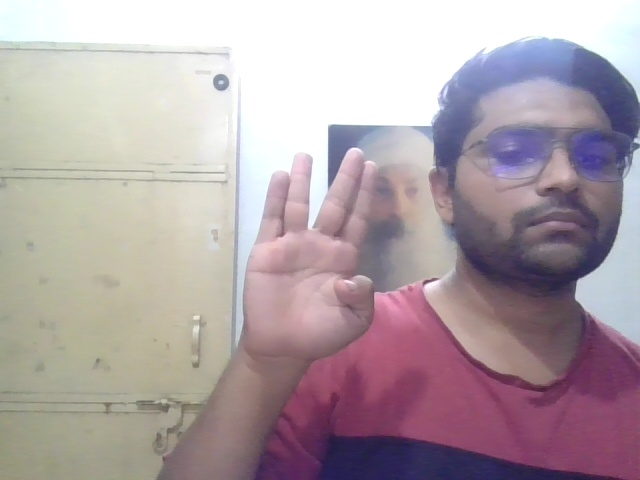LiveLong: (240, 142, 385, 357)
